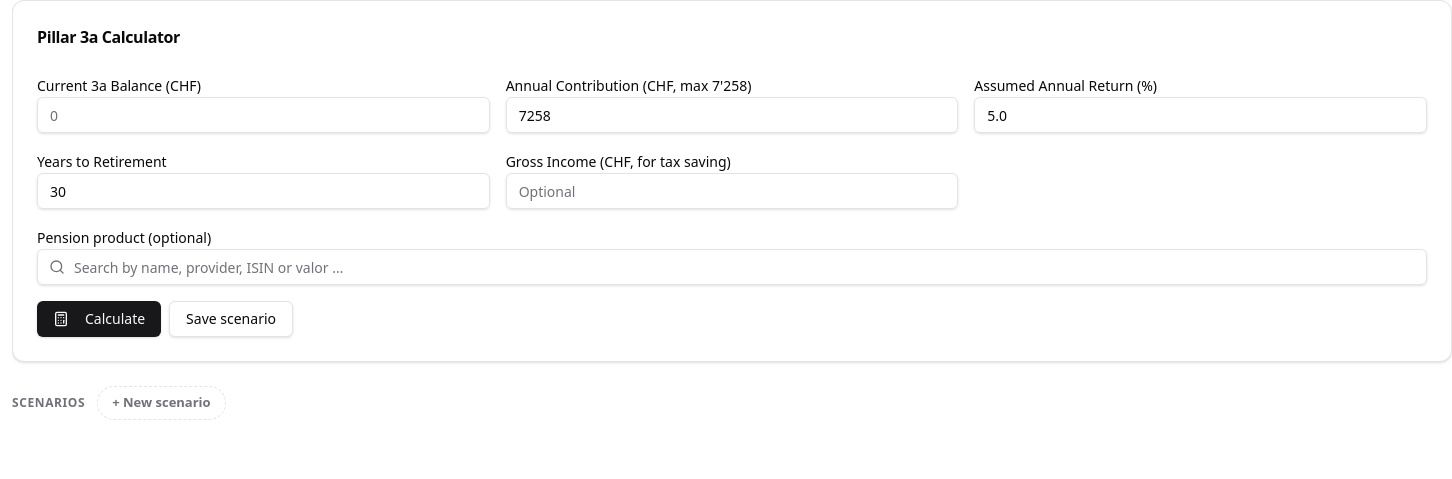
Test: CalculatorTab › locks the return rate to the selected product and releases it on removal
The width and height of the screenshot is (1452, 479).
In the field named "Add product": (732, 267) x1=37 y1=249 x2=1427 y2=285, type "Alpha"
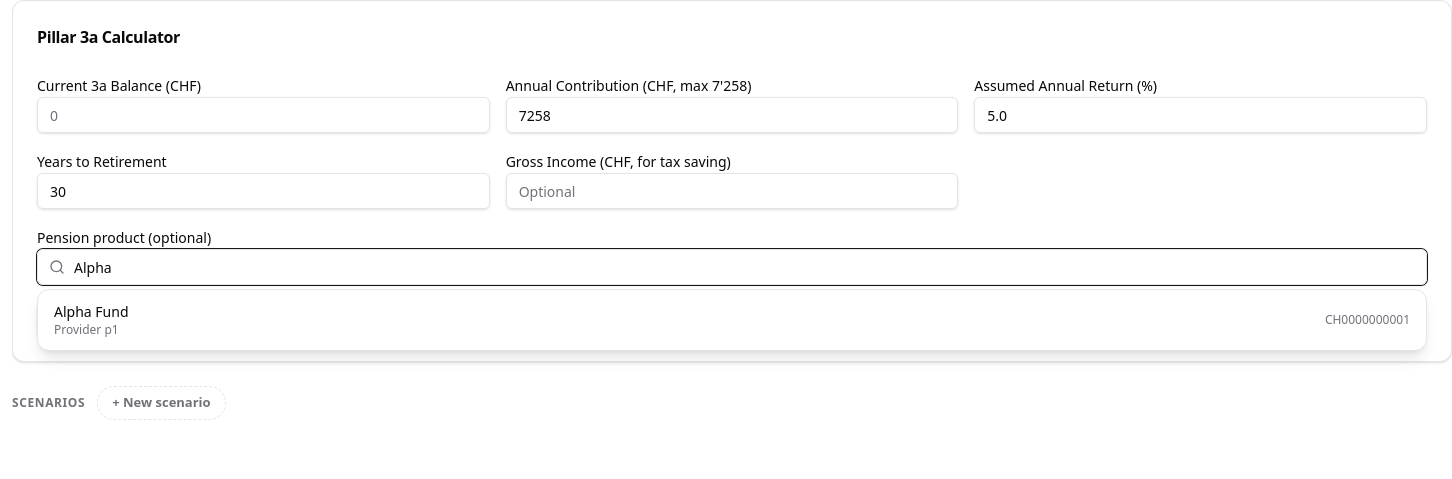
Click the button "Alpha Fund Provider p1 CH0000000001": click(91, 312) x1=42 y1=294 x2=1422 y2=346
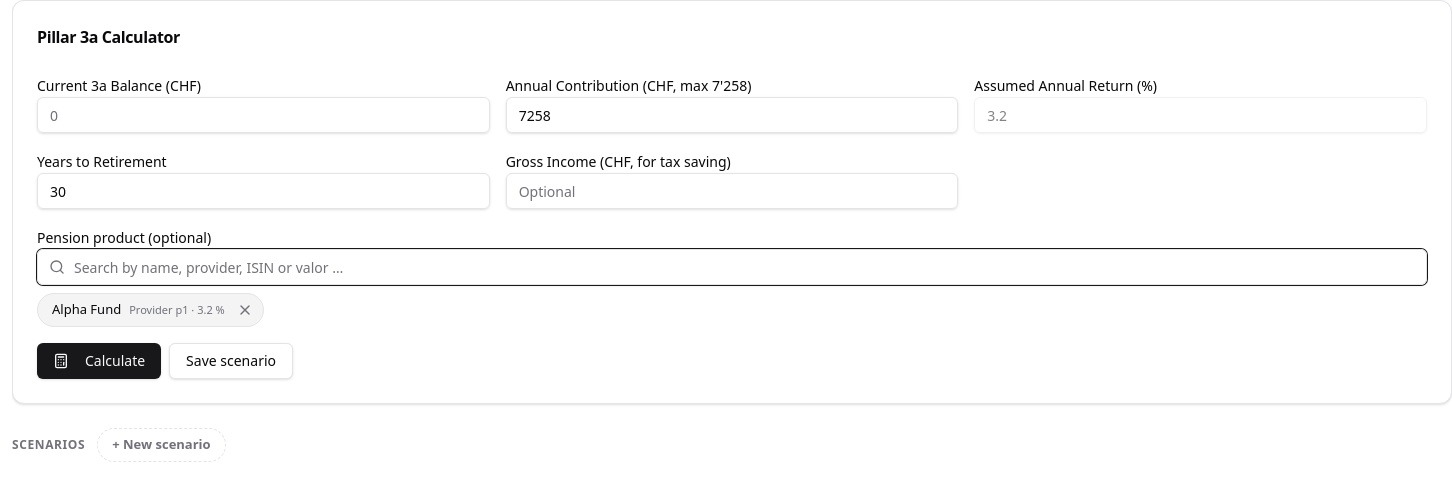
Result: the number field showing "3.2" below "Assumed Annual Return (%)" is disabled at x1=974 y1=97 x2=1427 y2=133
Click the button named "Remove product": click(245, 310) x1=233 y1=298 x2=257 y2=322
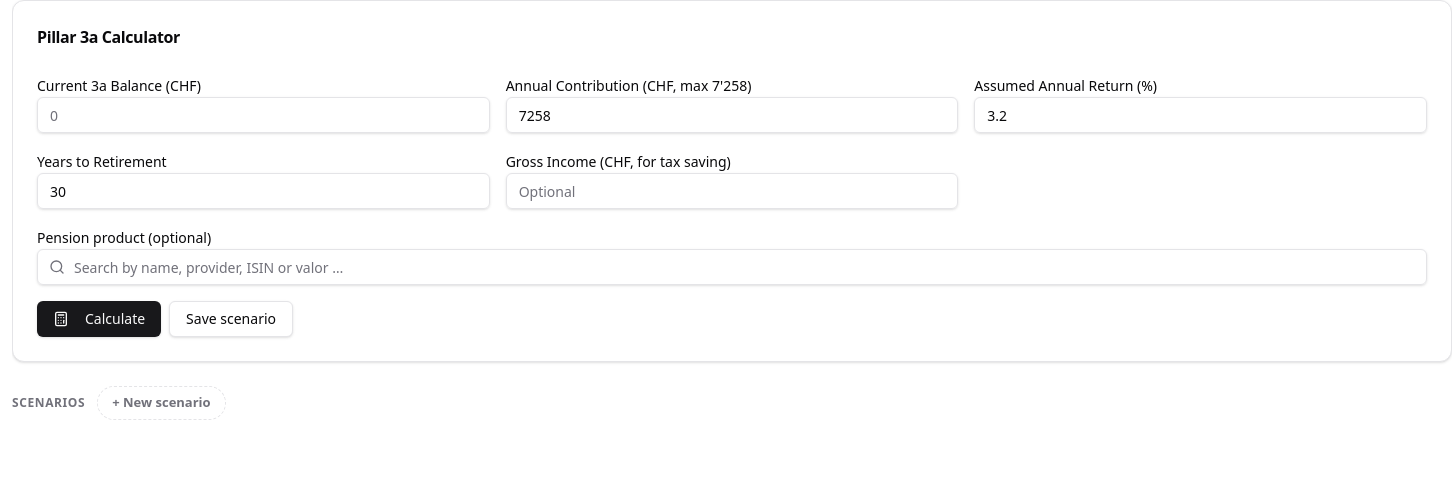
Result: the number field showing "3.2" below "Assumed Annual Return (%)" holds "3.2" at x1=974 y1=97 x2=1427 y2=133
Result: the number field showing "3.2" below "Assumed Annual Return (%)" is enabled at x1=974 y1=97 x2=1427 y2=133
